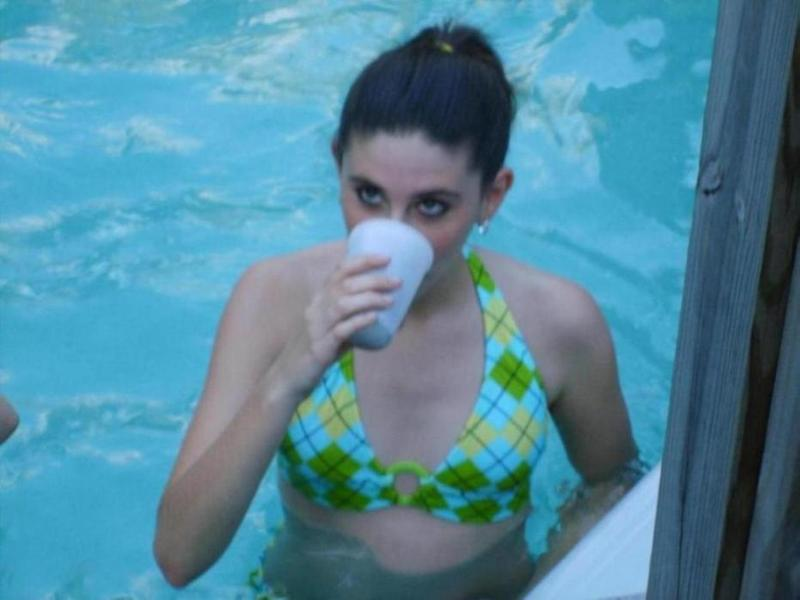person: (152, 22, 640, 600)
